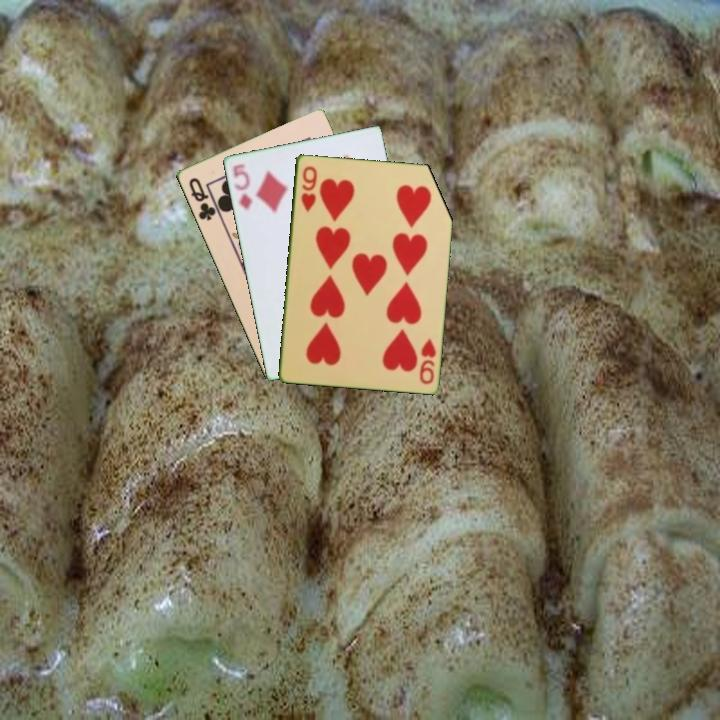5d: (229, 160, 255, 212)
9h: (297, 162, 320, 214), (416, 335, 438, 387)
Qc: (185, 174, 222, 224)
